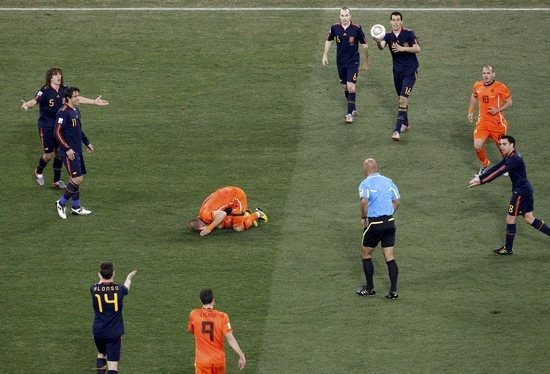falling: (184, 176, 271, 241)
